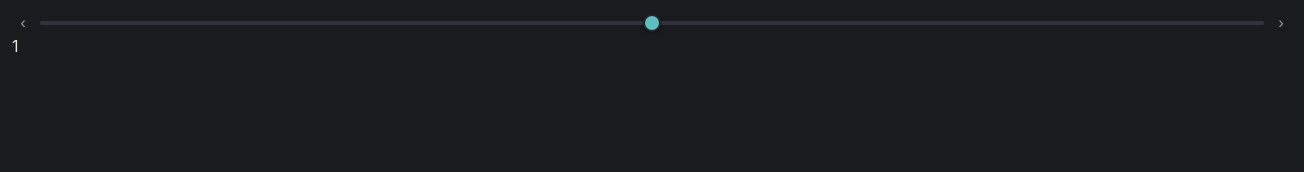
TimeStepper › steps one date per click and stops at the ends
Step 1. Click the button named "Previous date" → click(23, 23), box [12, 12, 34, 34]
Wait 401 ms
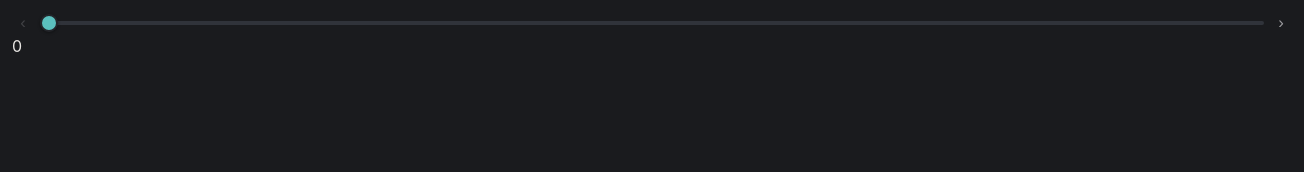
Result: the button named "Previous date" is disabled at [12, 12, 34, 34]
Step 2. Click the button named "Next date" → click(1281, 23), box [1270, 12, 1292, 34]
Wait 401 ms
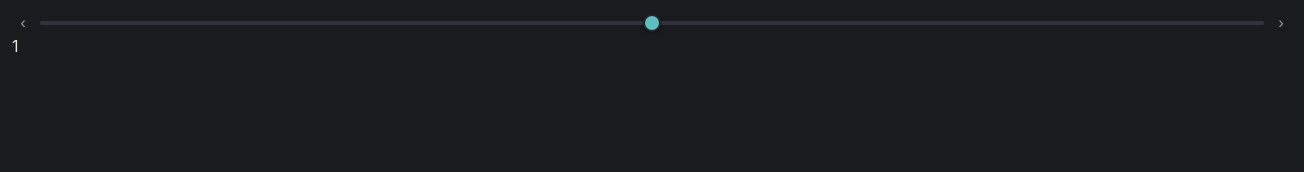
Step 3. Click the button named "Next date" → click(1281, 23), box [1270, 12, 1292, 34]
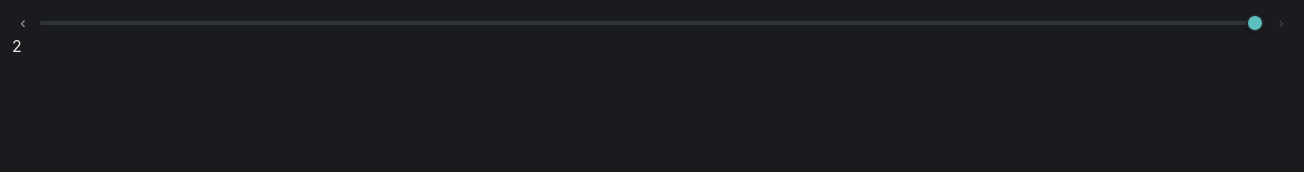
Result: the button named "Next date" is disabled at [1270, 12, 1292, 34]
